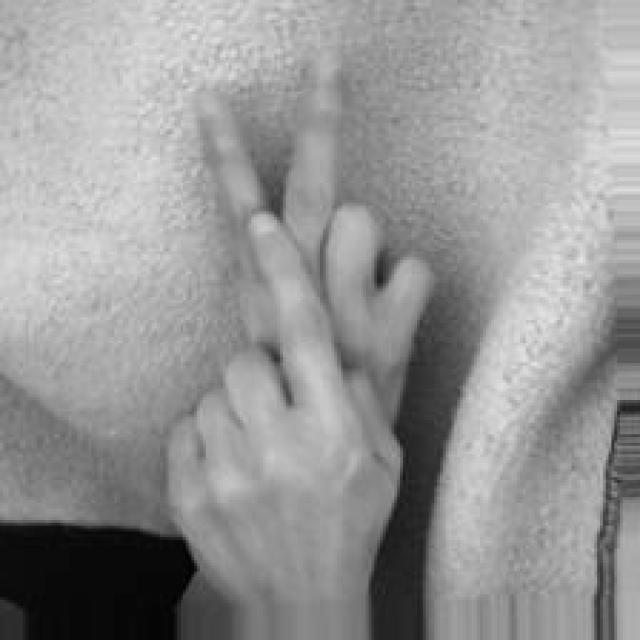Y: (163, 43, 440, 640)
